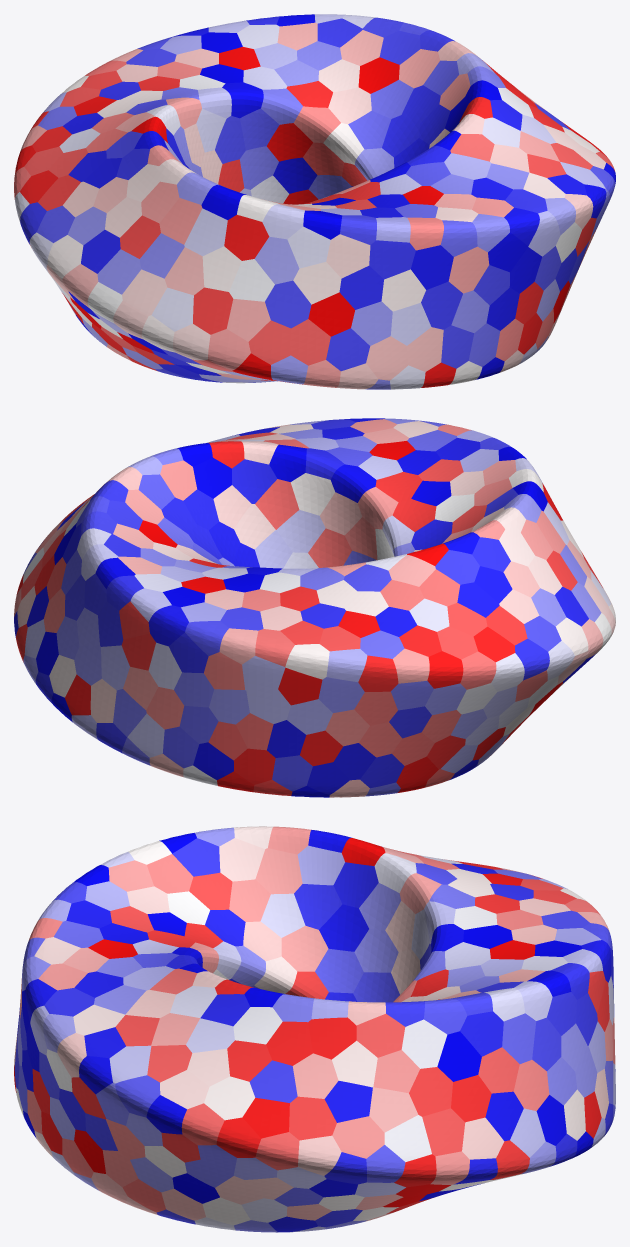
File: Ours_600_mobius1_Iter10_RVD.obj
The picture shows the model from 3 angles, top to bottom: view 1: azimuth 30°, elevation 25°; view 2: azimuth 150°, elevation 25°; view 3: azimuth 270°, elevation 25°; orthographic projection. The views are drawn at different scales.
Parts seen in each view (by area): view 1: 3D_Object; view 2: 3D_Object; view 3: 3D_Object.
Boxes of the visible parts, x1,y1,x2,y2 form: 3D_Object: (14,14,615,389); 3D_Object: (14,418,615,797); 3D_Object: (14,826,615,1232).
Bounding box in the file's own units: 6.8 × 2.63 × 6.26.
Materials: 1 (1 with a texture image).
